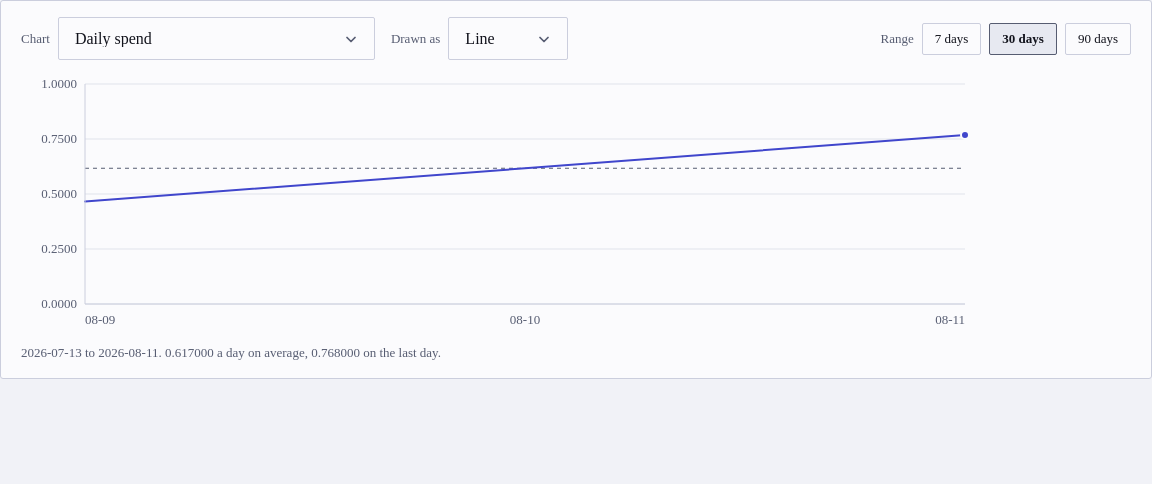
it: admin cost charts (W11) › says the series list is empty rather than claiming nothing was spent
The width and height of the screenshot is (1152, 484).
Select "Compare series" in the dropdown with test id "admin-cost-view" at (216, 38), box [58,17,375,60]
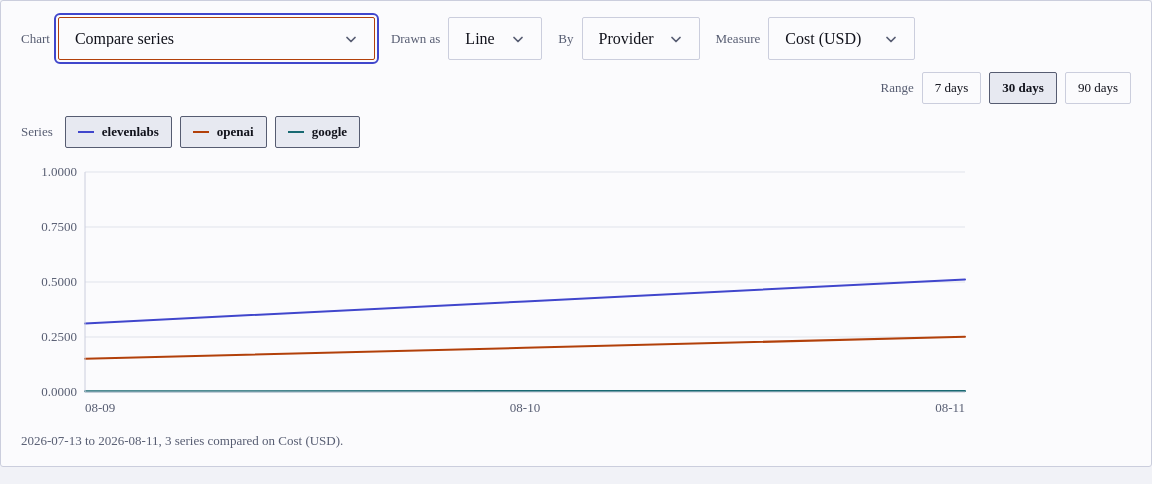
Click the button "elevenlabs" at (118, 132), box [65,116,172,148]
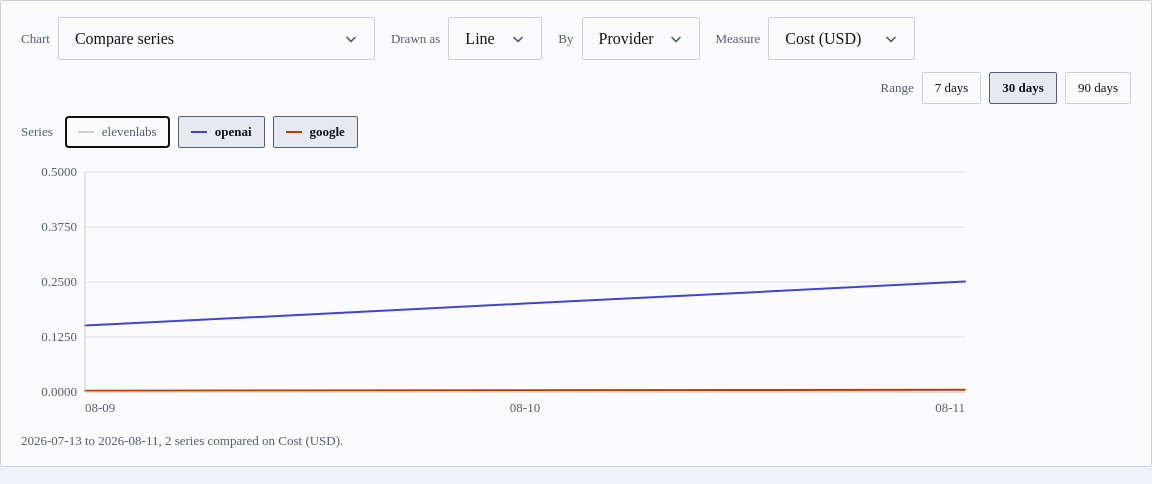
Click the button "openai" at (221, 132), box [178,116,264,148]
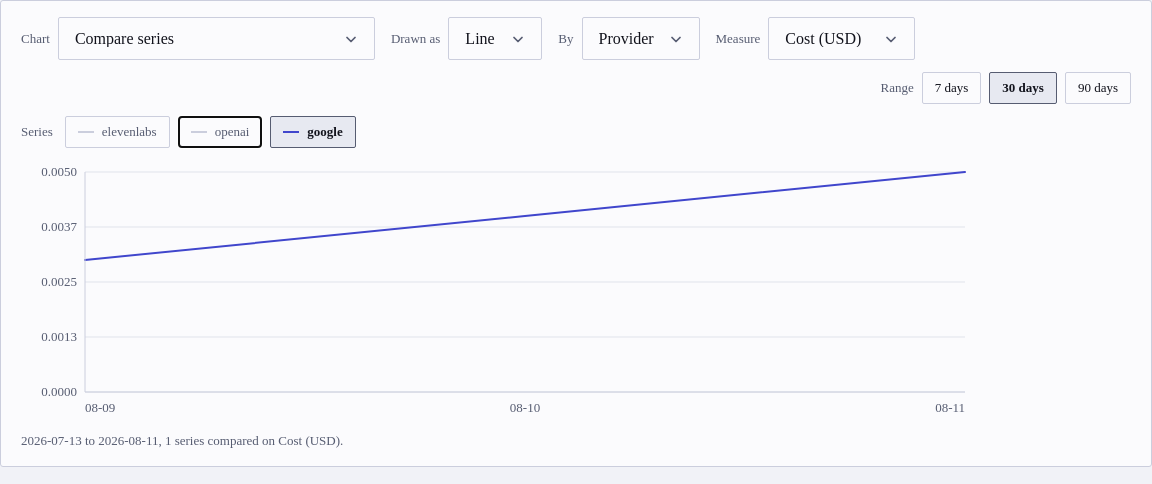
Click the button "google" at (313, 132), box [270,116,356,148]
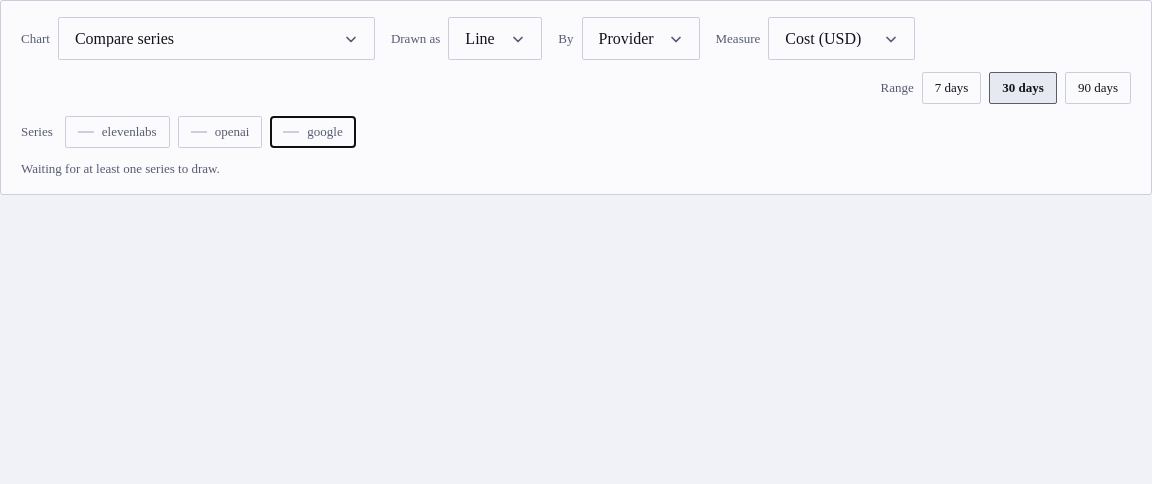
Now the text "Waiting for at least one series to draw." is shown, box [21,161,220,176]
